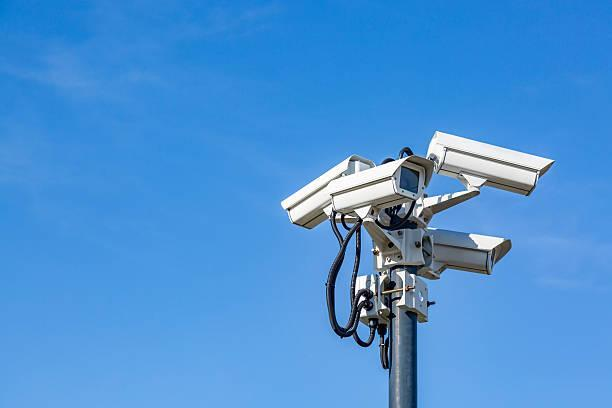camera: (385, 182, 540, 310), (422, 97, 559, 217), (244, 126, 373, 236), (323, 148, 432, 239)
